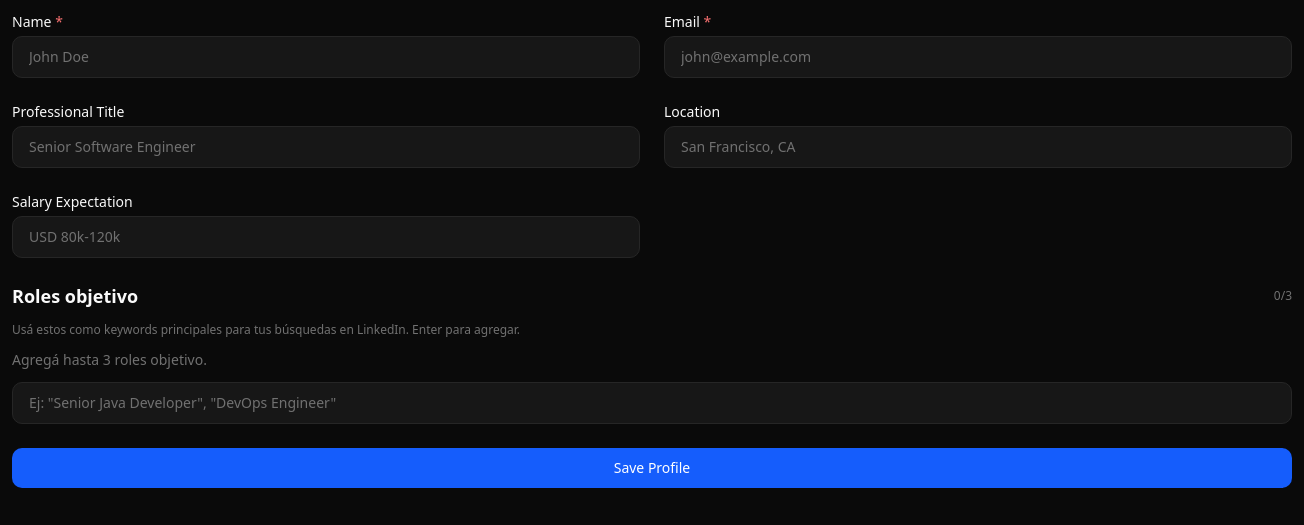
Scenario: ProfileForm › validates email format
Type "Test User" into the field labelled "Name *". click: (326, 57)
box: [12,36,640,78]
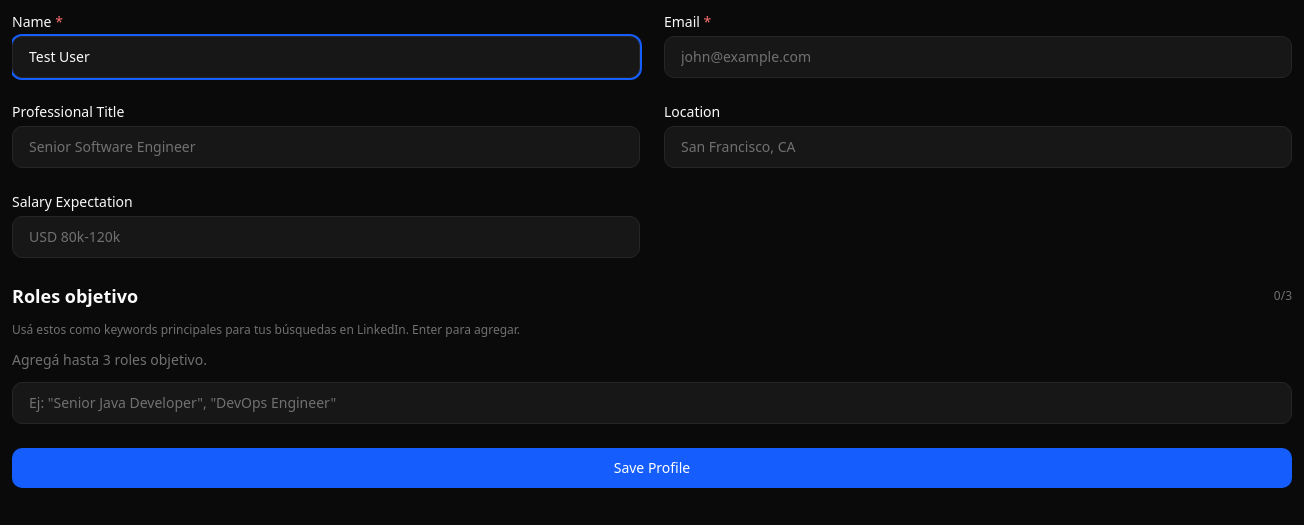
Type "not-an-email" into the field labelled "Email *". click: (978, 57)
box: [664,36,1292,78]
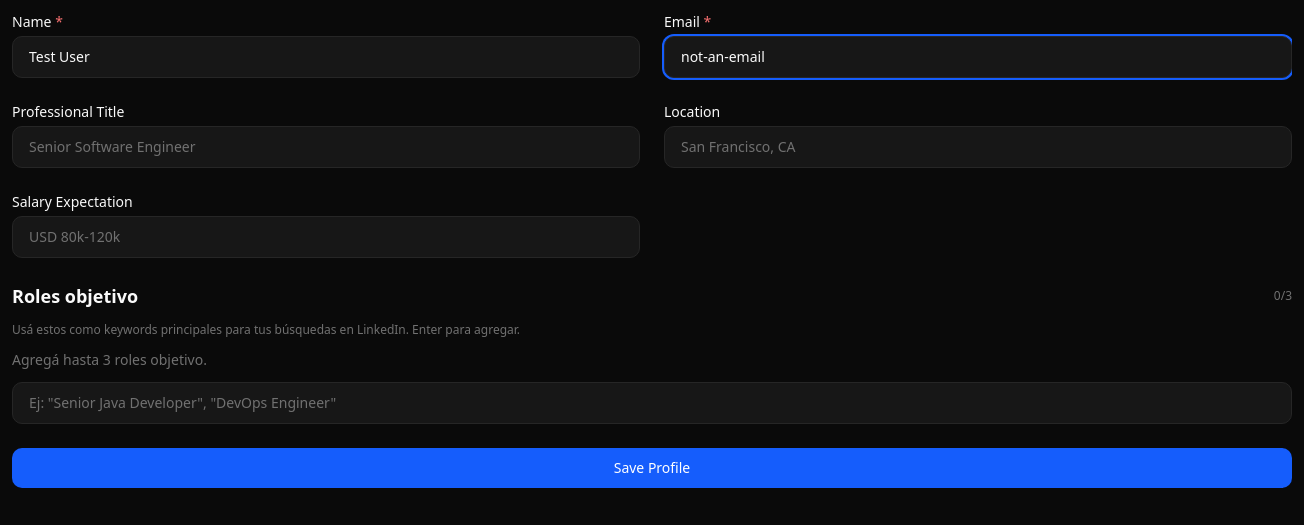
Press Enter
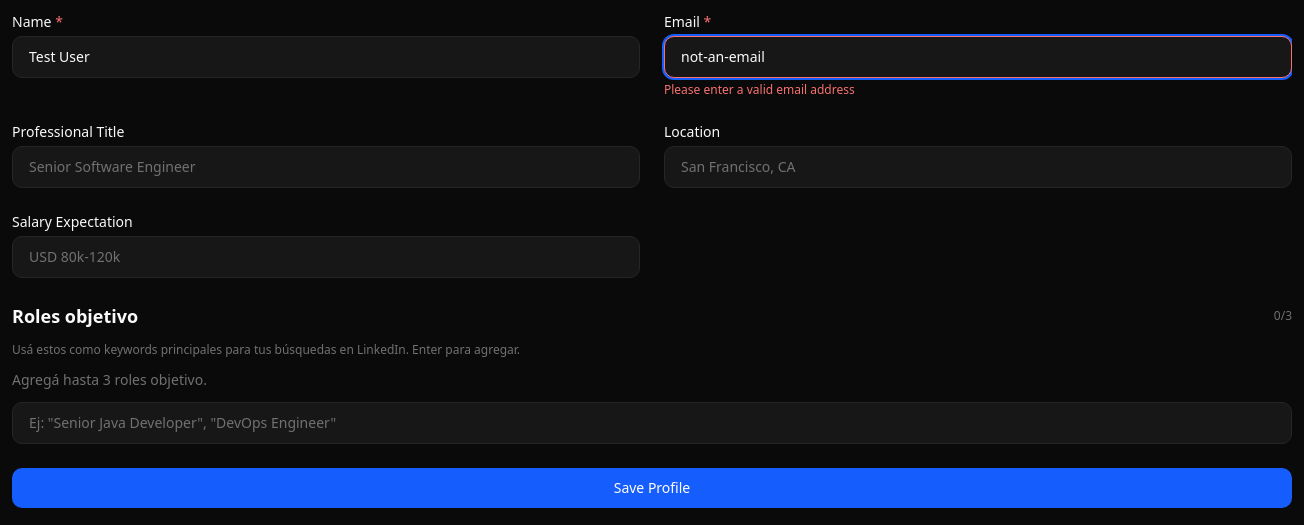
expect the text "Please enter a valid email address" is shown: met, box [664,81,855,98]
